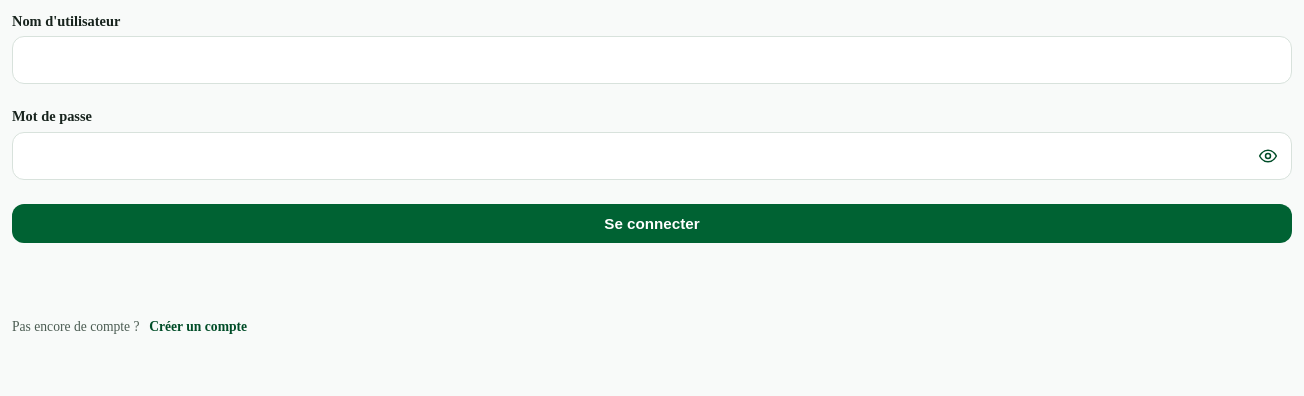
Test: LoginForm › shows both errors and focuses the first invalid field on submit with empty fields
Click the button "Se connecter" at (652, 224), box [12,204,1292,243]
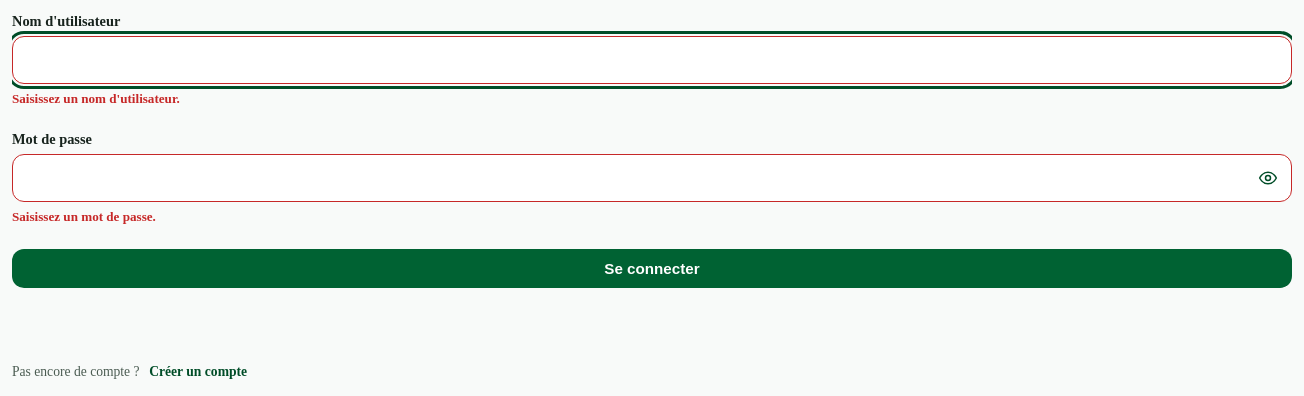
Check: the text "Saisissez un nom d'utilisateur." is shown, box [12,91,180,106]
